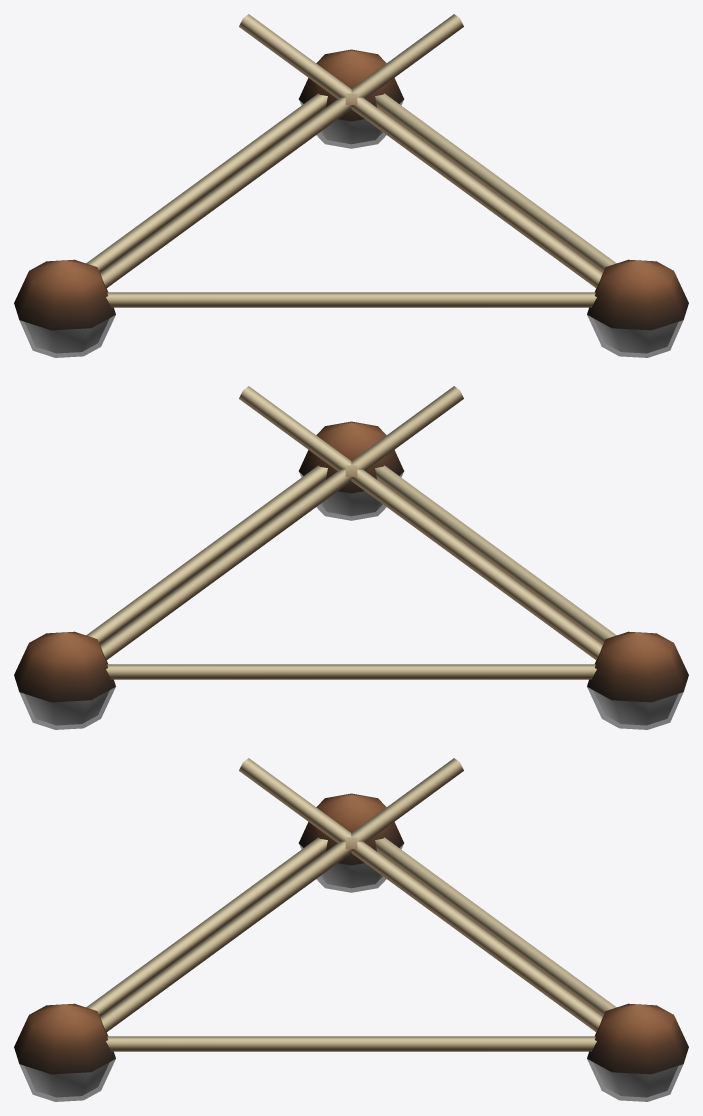
The model's file is TSP_Ceiling_Fixture_03B.fbx.
3 renders of one model, top to bottom at view 1: azimuth 30°, elevation 25°; view 2: azimuth 150°, elevation 25°; view 3: azimuth 270°, elevation 25°, orthographic.
Visible parts, largest first — view 1: TSP_Ceiling_Fixture_03B, TSP_Ceiling_Fixture_03B_Lights; view 2: TSP_Ceiling_Fixture_03B, TSP_Ceiling_Fixture_03B_Lights; view 3: TSP_Ceiling_Fixture_03B, TSP_Ceiling_Fixture_03B_Lights.
Boxes of the visible parts, x1=… form: TSP_Ceiling_Fixture_03B: x1=14, y1=14, x2=688, y2=357; TSP_Ceiling_Fixture_03B_Lights: x1=25, y1=119, x2=677, y2=353; TSP_Ceiling_Fixture_03B: x1=14, y1=386, x2=688, y2=729; TSP_Ceiling_Fixture_03B_Lights: x1=25, y1=491, x2=677, y2=725; TSP_Ceiling_Fixture_03B: x1=14, y1=758, x2=688, y2=1101; TSP_Ceiling_Fixture_03B_Lights: x1=25, y1=863, x2=677, y2=1097.
Size of the model in its own units: 127 by 57.21 by 143.
